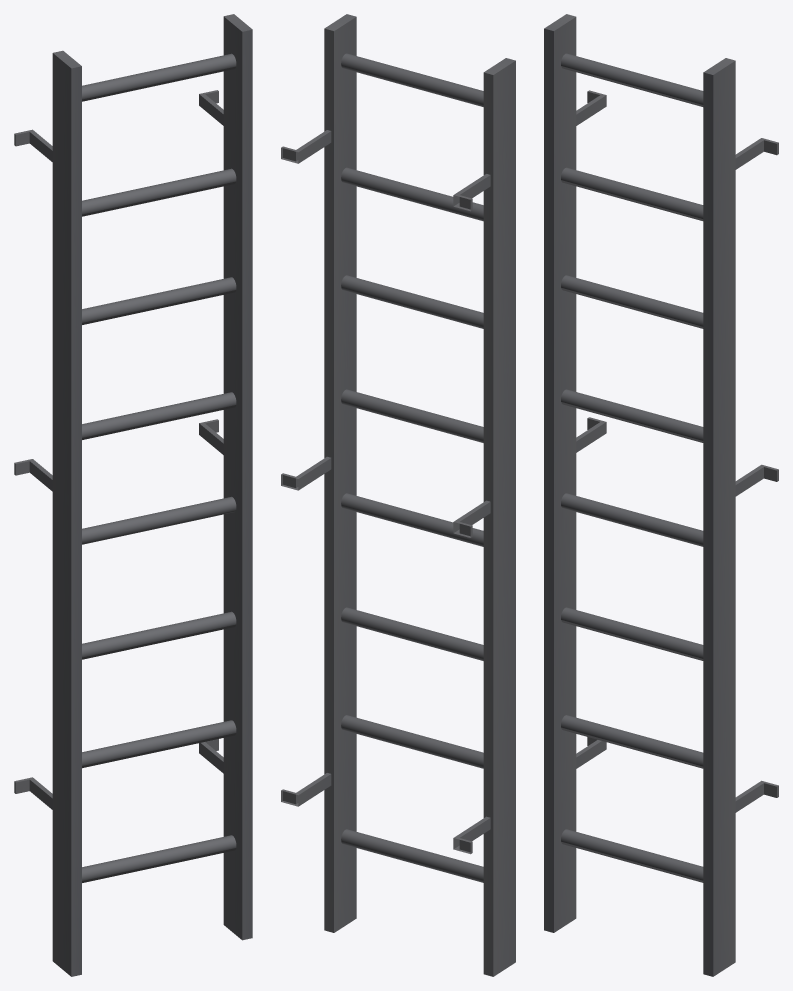
File: Ladder.fbx
3 views of the same model, side by side, from view 1: azimuth 30°, elevation 25°; view 2: azimuth 150°, elevation 25°; view 3: azimuth 330°, elevation 25° (orthographic).
Visible parts, largest first — view 1: mountedlatter__1_:pCube1, mountedlatter__1_:pCube3, mountedlatter__1_:pCylinder7, mountedlatter__1_:pCylinder8, mountedlatter__1_:pCylinder5, mountedlatter__1_:pCylinder6, mountedlatter__1_:pCylinder3, mountedlatter__1_:pCylinder4, mountedlatter__1_:pCylinder2, mountedlatter__1_:pCylinder1, mountedlatter__1_:pCube5, mountedlatter__1_:pCube9 (+3 smaller); view 2: mountedlatter__1_:pCube1, mountedlatter__1_:pCube3, mountedlatter__1_:pCylinder2, mountedlatter__1_:pCylinder1, mountedlatter__1_:pCylinder5, mountedlatter__1_:pCylinder7, mountedlatter__1_:pCylinder6, mountedlatter__1_:pCylinder3, mountedlatter__1_:pCylinder8, mountedlatter__1_:pCylinder4, mountedlatter__1_:pCube4, mountedlatter__1_:pCube7 (+4 smaller); view 3: mountedlatter__1_:pCube3, mountedlatter__1_:pCube1, mountedlatter__1_:pCylinder3, mountedlatter__1_:pCylinder7, mountedlatter__1_:pCylinder6, mountedlatter__1_:pCylinder2, mountedlatter__1_:pCylinder1, mountedlatter__1_:pCylinder8, mountedlatter__1_:pCylinder5, mountedlatter__1_:pCylinder4, mountedlatter__1_:pCube4, mountedlatter__1_:pCube8 (+3 smaller).
Part boxes in pixels (x1=…): mountedlatter__1_:pCube1: x1=52, y1=50, x2=81, y2=976; mountedlatter__1_:pCube3: x1=223, y1=14, x2=252, y2=940; mountedlatter__1_:pCylinder7: x1=82, y1=53, x2=236, y2=101; mountedlatter__1_:pCylinder8: x1=82, y1=168, x2=236, y2=216; mountedlatter__1_:pCylinder5: x1=82, y1=277, x2=236, y2=324; mountedlatter__1_:pCylinder6: x1=82, y1=392, x2=236, y2=439; mountedlatter__1_:pCylinder3: x1=82, y1=611, x2=236, y2=659; mountedlatter__1_:pCylinder4: x1=82, y1=496, x2=236, y2=544; mountedlatter__1_:pCylinder2: x1=82, y1=720, x2=236, y2=768; mountedlatter__1_:pCylinder1: x1=82, y1=835, x2=236, y2=882; mountedlatter__1_:pCube5: x1=14, y1=777, x2=52, y2=809; mountedlatter__1_:pCube9: x1=14, y1=459, x2=52, y2=491; mountedlatter__1_:pCube1: x1=483, y1=58, x2=515, y2=976; mountedlatter__1_:pCube3: x1=324, y1=14, x2=356, y2=932; mountedlatter__1_:pCylinder2: x1=341, y1=715, x2=483, y2=768; mountedlatter__1_:pCylinder1: x1=341, y1=829, x2=483, y2=882; mountedlatter__1_:pCylinder5: x1=341, y1=275, x2=483, y2=328; mountedlatter__1_:pCylinder7: x1=341, y1=53, x2=483, y2=106; mountedlatter__1_:pCylinder6: x1=341, y1=389, x2=483, y2=442; mountedlatter__1_:pCylinder3: x1=341, y1=607, x2=483, y2=660; mountedlatter__1_:pCylinder8: x1=341, y1=167, x2=483, y2=221; mountedlatter__1_:pCylinder4: x1=341, y1=493, x2=483, y2=546; mountedlatter__1_:pCube4: x1=281, y1=773, x2=331, y2=806; mountedlatter__1_:pCube7: x1=281, y1=130, x2=331, y2=163; mountedlatter__1_:pCube3: x1=703, y1=58, x2=735, y2=976; mountedlatter__1_:pCube1: x1=544, y1=14, x2=576, y2=932; mountedlatter__1_:pCylinder3: x1=561, y1=607, x2=703, y2=660; mountedlatter__1_:pCylinder7: x1=561, y1=53, x2=703, y2=106; mountedlatter__1_:pCylinder6: x1=561, y1=389, x2=703, y2=442; mountedlatter__1_:pCylinder2: x1=561, y1=715, x2=703, y2=768; mountedlatter__1_:pCylinder1: x1=561, y1=829, x2=703, y2=882; mountedlatter__1_:pCylinder8: x1=561, y1=167, x2=703, y2=220; mountedlatter__1_:pCylinder5: x1=561, y1=275, x2=703, y2=328; mountedlatter__1_:pCylinder4: x1=561, y1=493, x2=703, y2=546; mountedlatter__1_:pCube4: x1=735, y1=780, x2=778, y2=812; mountedlatter__1_:pCube8: x1=735, y1=464, x2=778, y2=496.
Bounding box in the file's own units: 39.8 × 175 × 19.86.
